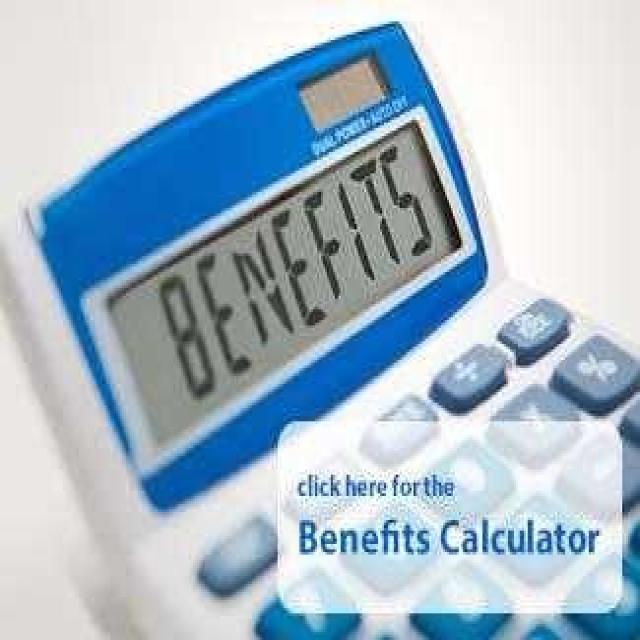Calculator: (0, 16, 638, 637)
